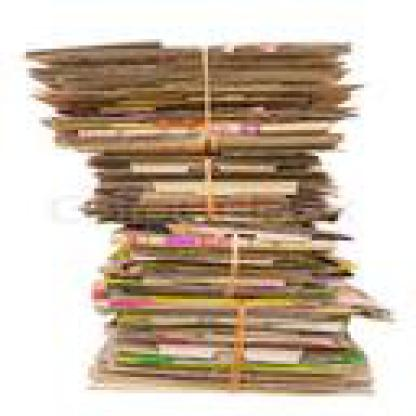CARDBOARD: (23, 36, 387, 393), (46, 111, 342, 221), (87, 286, 386, 387), (26, 42, 358, 114), (94, 198, 348, 286)
